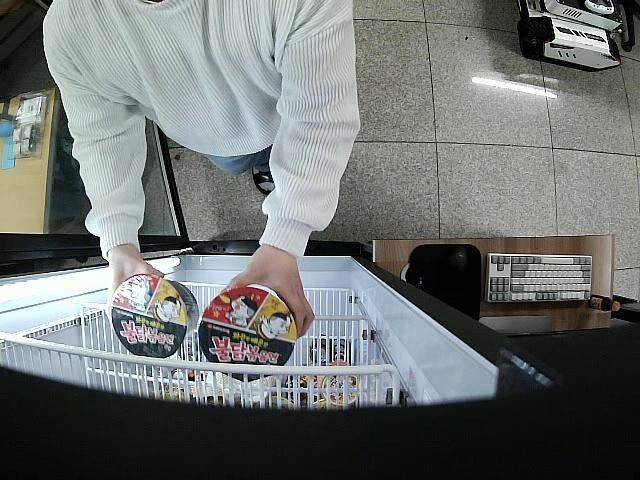07_buldak_L: (198, 287, 298, 382), (110, 272, 200, 359)
